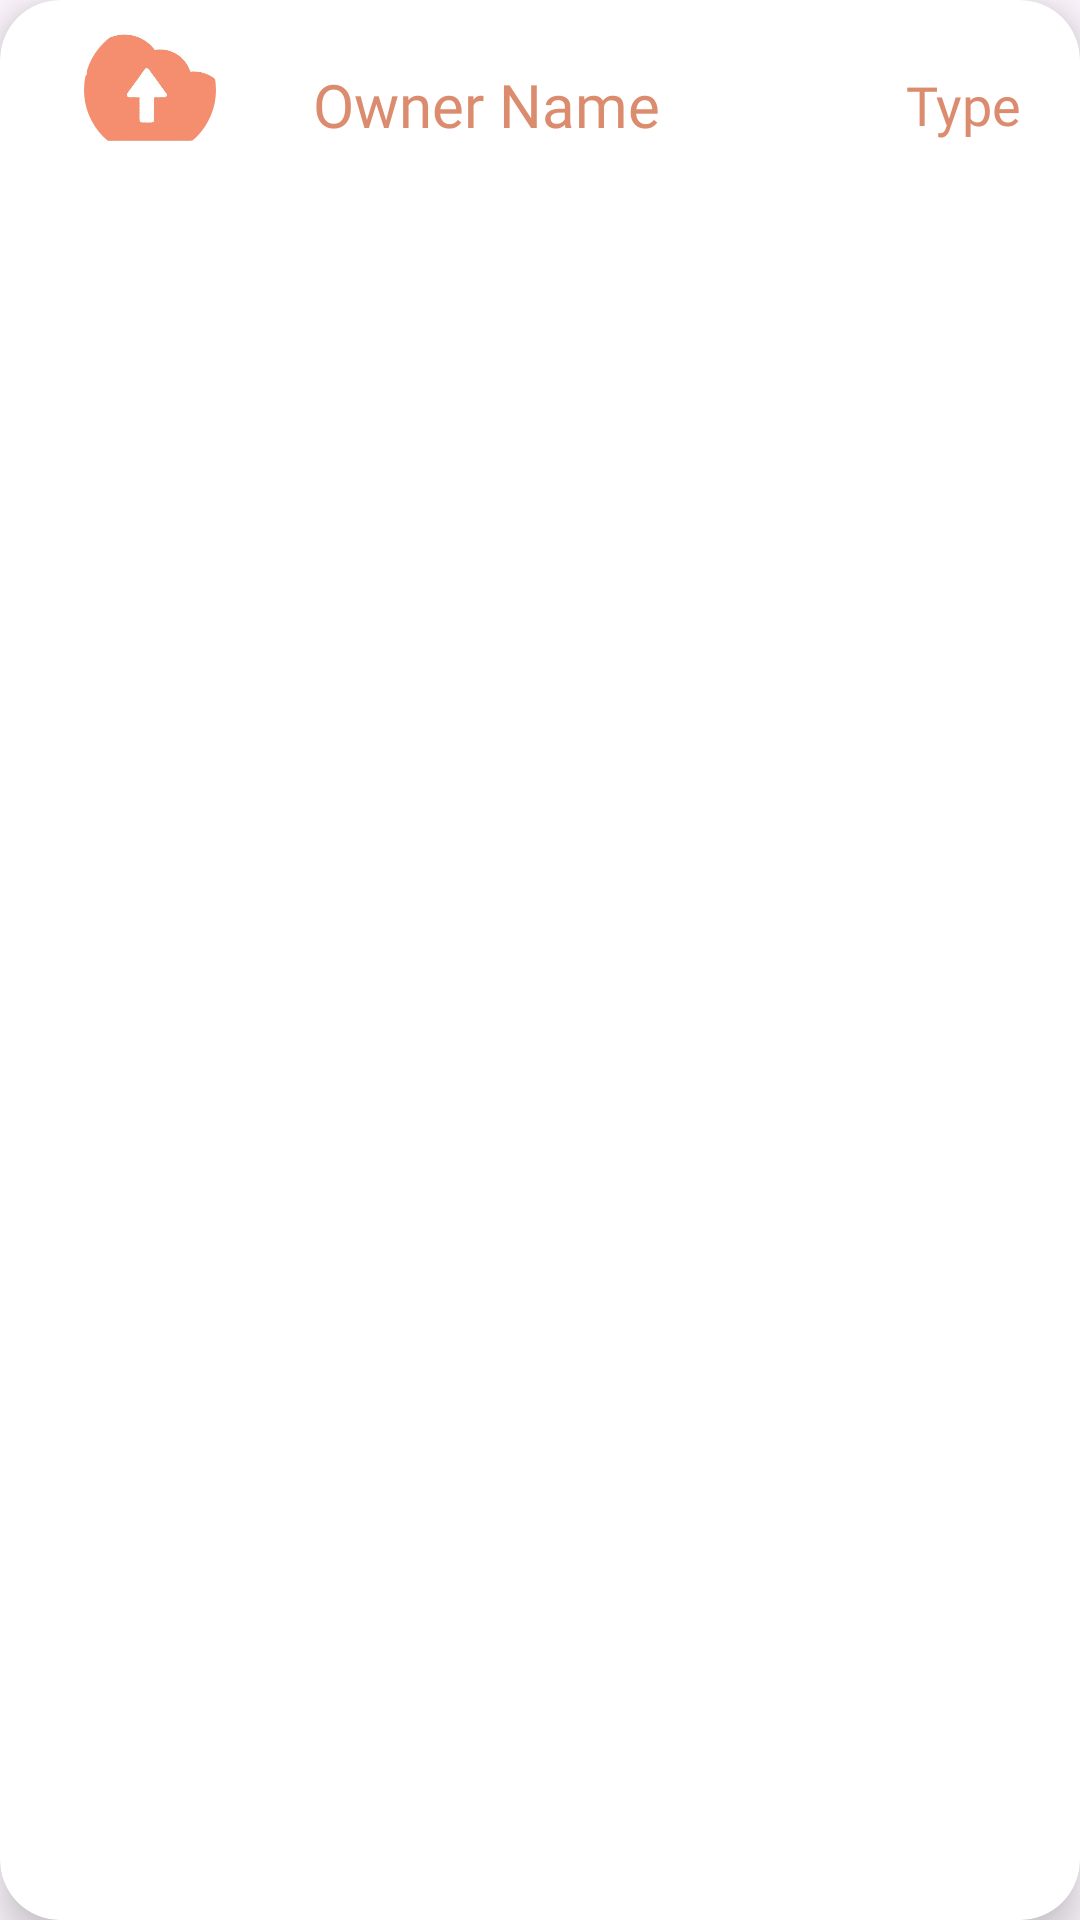

Icons on this 1080×1920 Android screen, each with the point to tap as (x,y):
uploadimage: (150,87)
